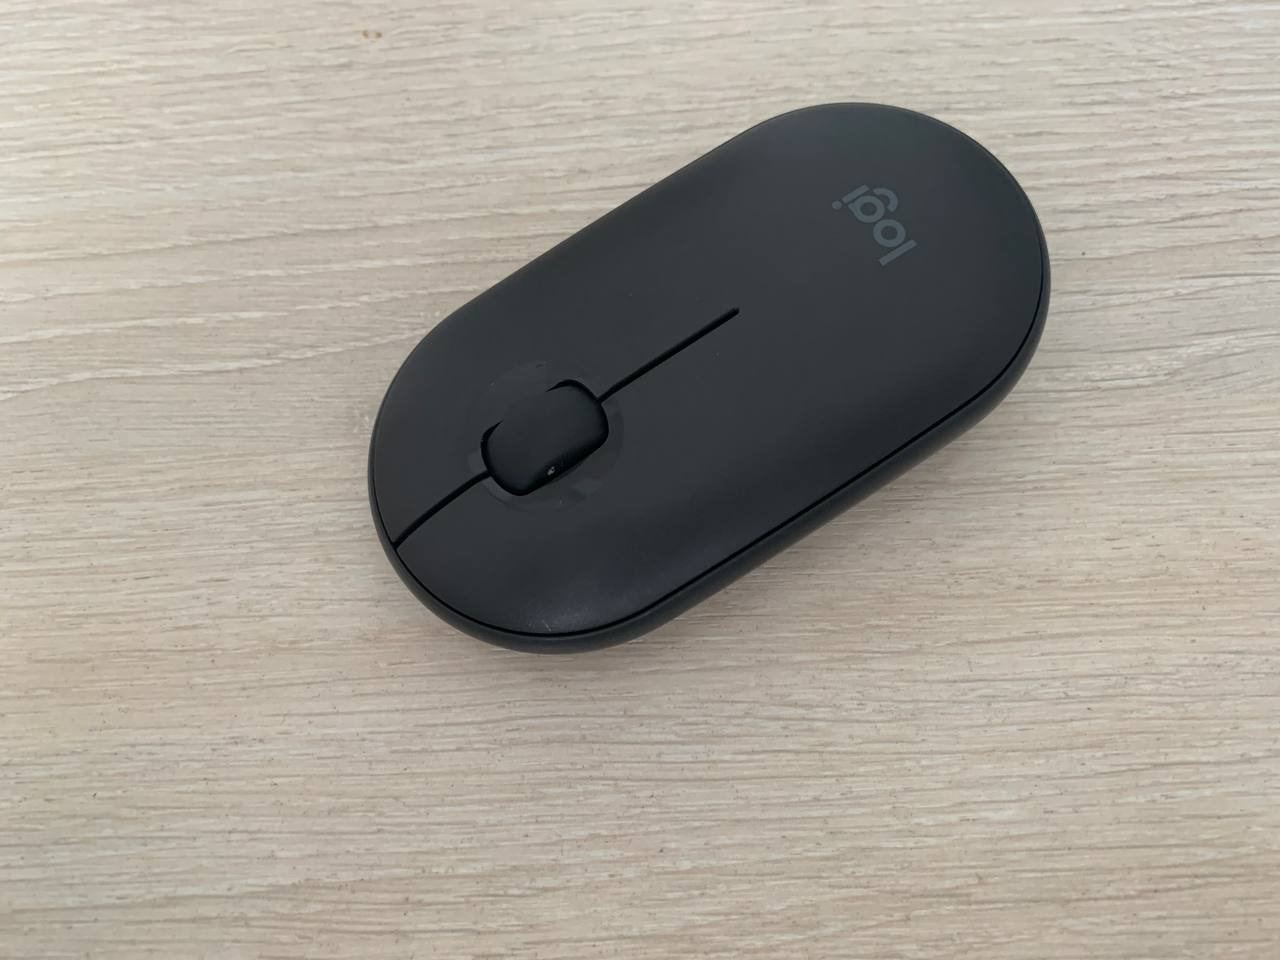mouse: (369, 104, 1049, 651)
